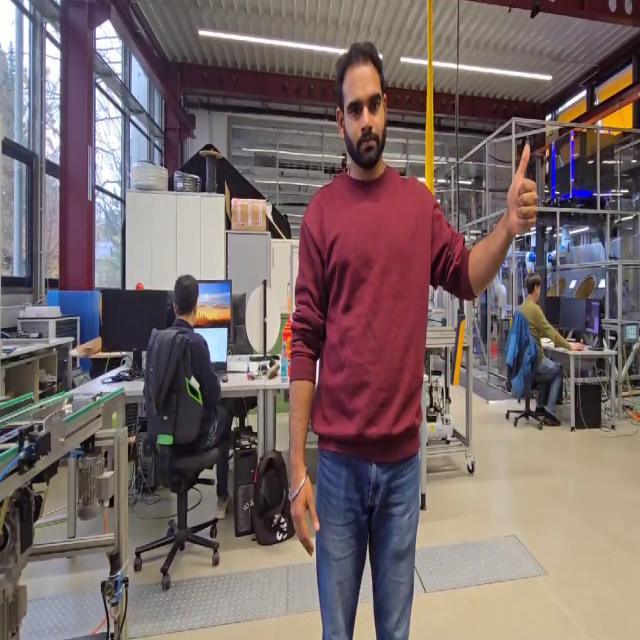thumbs_up: (502, 138, 542, 242)
